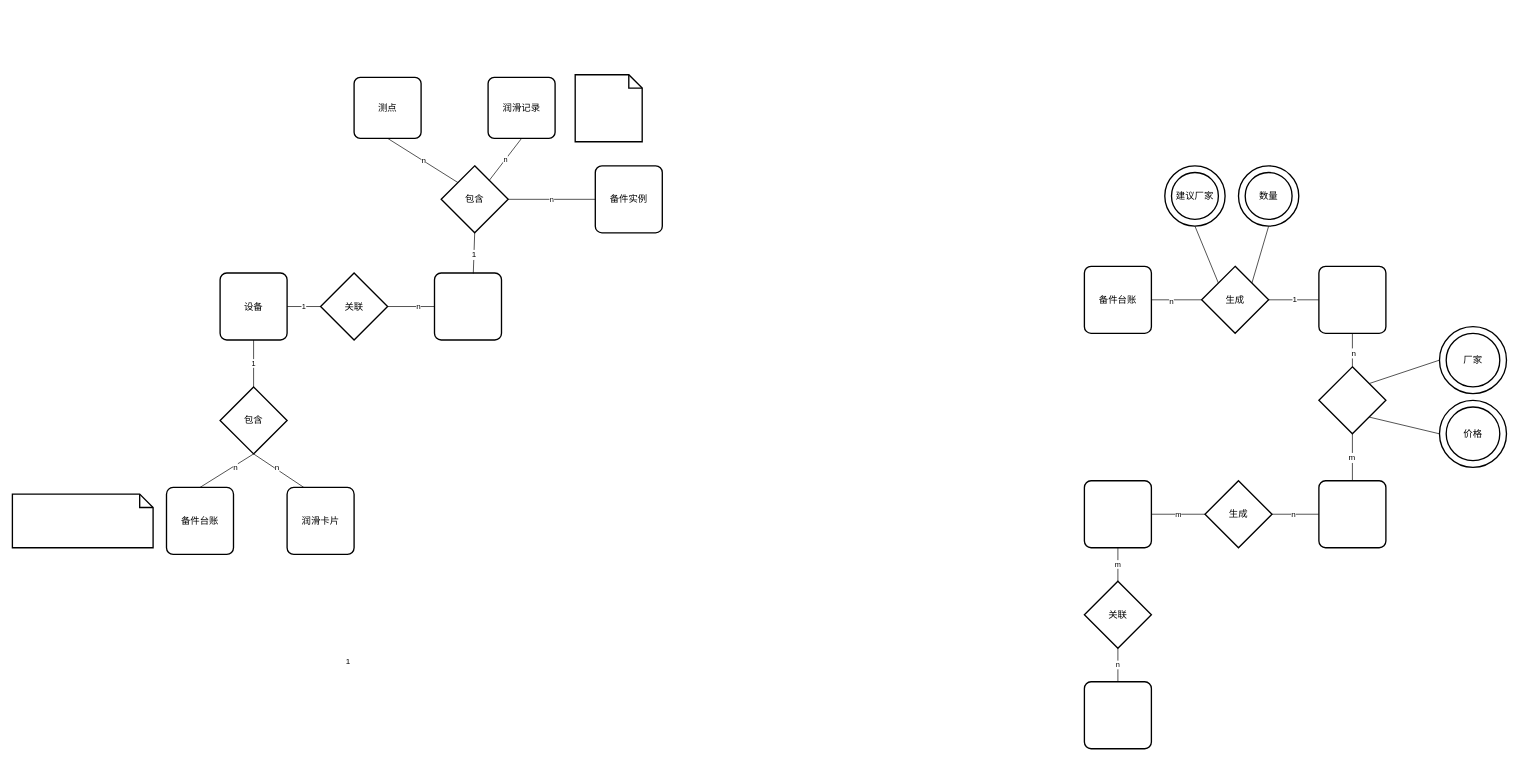
Some shapes in this 1518 by 761 pixel diagram are drawn without their labels. The centre of each missing label's shape, as x and y in pixels:
"关联到润滑卡片" goes at pixel 608 108.
"创建" goes at pixel 1352 400.
"合同" goes at pixel 1117 514.
"备件台账记录设备上需要哪些备件，比如备件的名称、型号、参数等数据" goes at pixel 82 520.
"备件计划" goes at pixel 1352 299.
"比价单" goes at pixel 1352 514.
"设备实例" goes at pixel 467 306.
"验收单" goes at pixel 1117 715.
